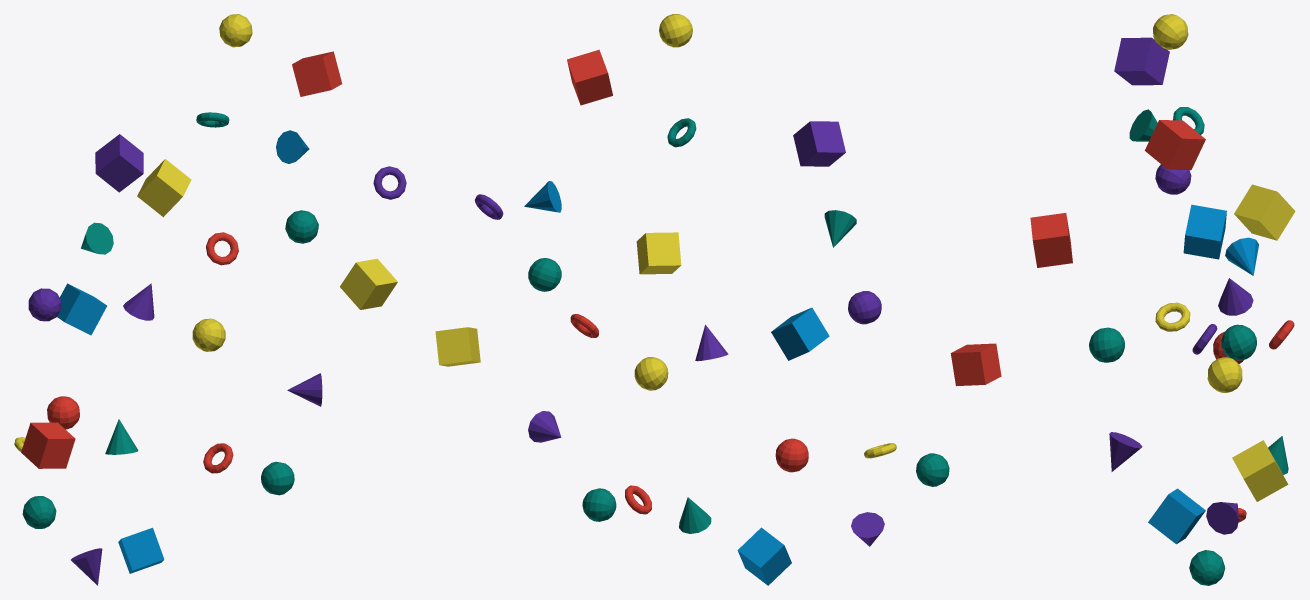
The picture shows the model from 3 angles, left to right: view 1: azimuth 30°, elevation 25°; view 2: azimuth 150°, elevation 25°; view 3: azimuth 270°, elevation 25°; orthographic projection. The views are drawn at different scales.
Parts seen in each view (by area): view 1: node_MeshObject-126365696-PolyPaper21; view 2: node_MeshObject-126365696-PolyPaper21; view 3: node_MeshObject-126365696-PolyPaper21.
Boxes of the visible parts, left/top/right/bottom form: node_MeshObject-126365696-PolyPaper21: left=14, top=14, right=406, bottom=585; node_MeshObject-126365696-PolyPaper21: left=435, top=14, right=1001, bottom=585; node_MeshObject-126365696-PolyPaper21: left=1030, top=14, right=1295, bottom=585.
Size of the model in its own units: 1.71 by 1.93 by 0.8068.
